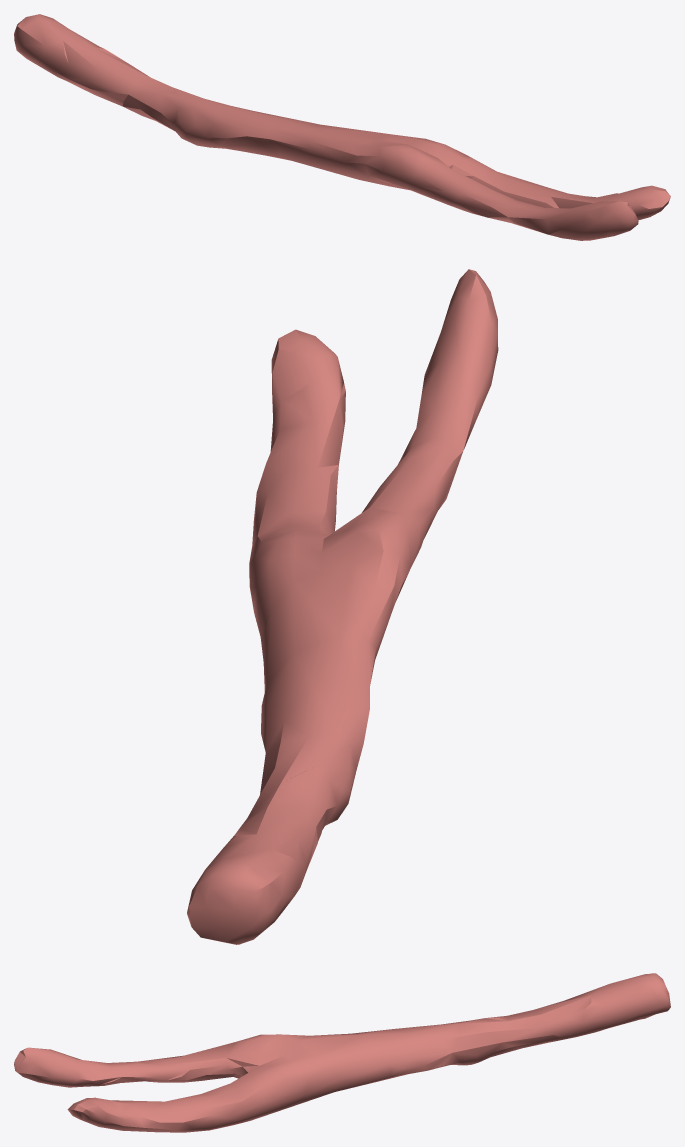
The model's file is fma223216_mm1754.glb.
3 renders of one model, top to bottom at view 1: azimuth 30°, elevation 25°; view 2: azimuth 150°, elevation 25°; view 3: azimuth 270°, elevation 25°, orthographic. The views are drawn at different scales.
Parts seen in each view (by area): view 1: FMA223216_MM1754; view 2: FMA223216_MM1754; view 3: FMA223216_MM1754.
Boxes of the visible parts, box(x1,y1,x2,y2) form: FMA223216_MM1754: box(14, 14, 670, 240); FMA223216_MM1754: box(187, 269, 498, 944); FMA223216_MM1754: box(14, 973, 670, 1132).
Bounding box in the file's own units: 0.0259 × 0.00722 × 0.0527.
